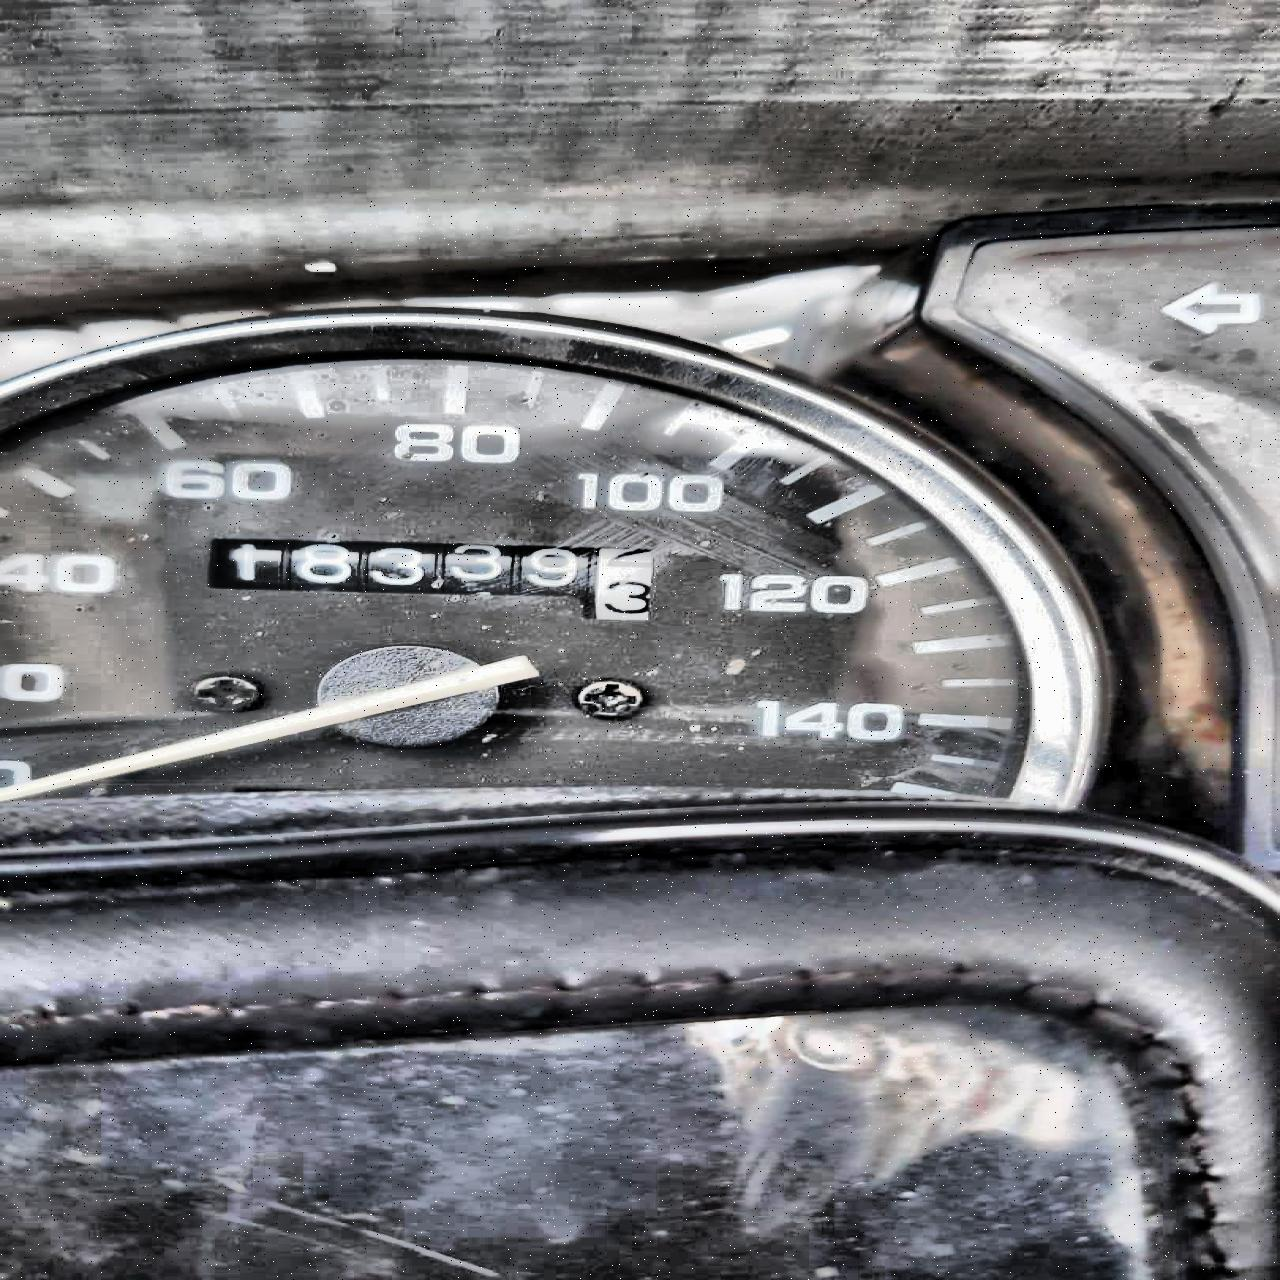1: (238, 543, 254, 580)
2: (604, 533, 655, 567)
3: (448, 543, 503, 580), (368, 547, 422, 585), (602, 579, 649, 613)
8: (298, 544, 350, 583)
9: (524, 546, 577, 586)
odometer: (199, 535, 658, 622)
